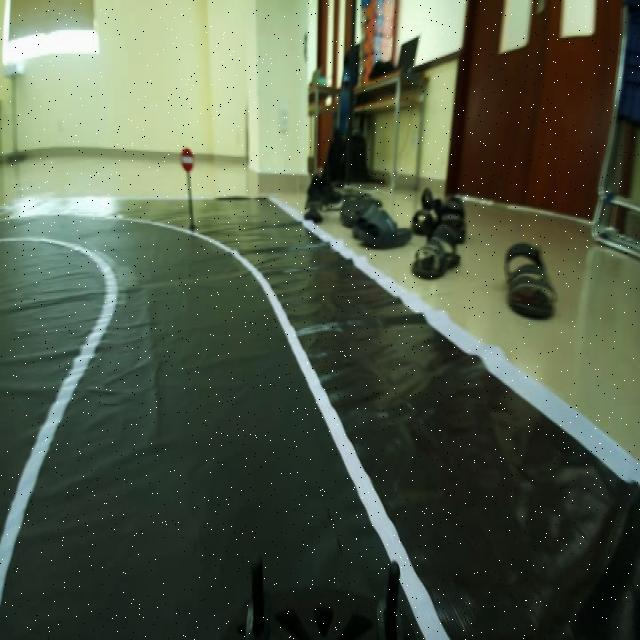no_entry: (178, 144, 197, 173)
